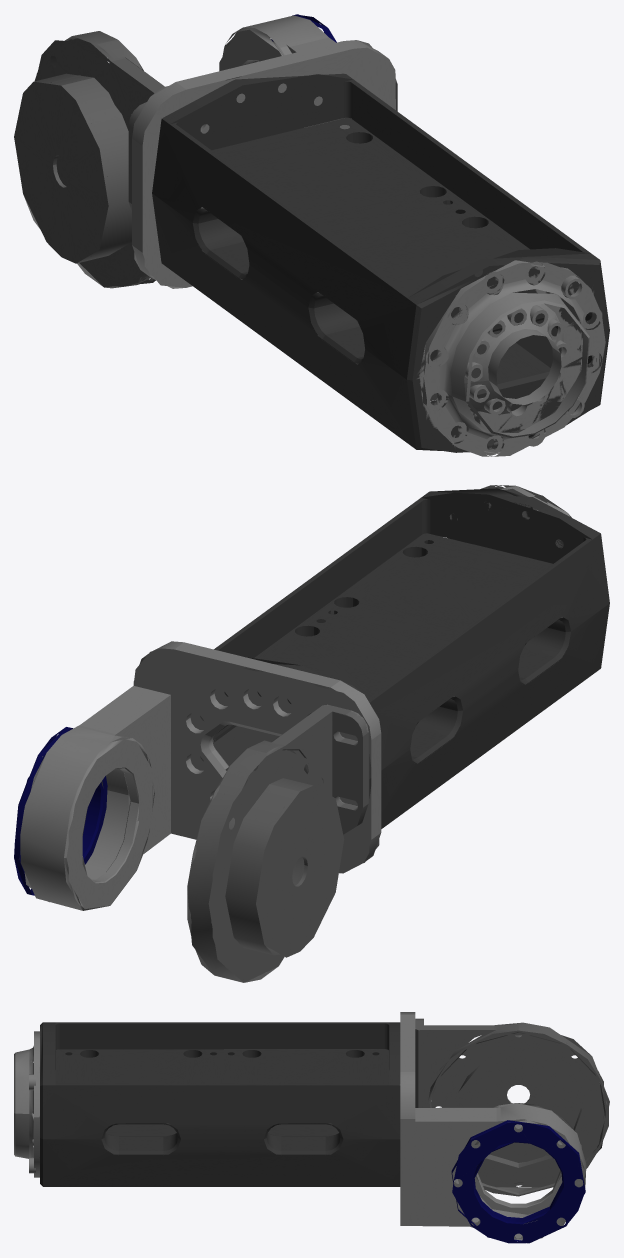
The model's file is arml_sho4_joint.obj.
3 views of the same model, one above another, from view 1: azimuth 30°, elevation 25°; view 2: azimuth 150°, elevation 25°; view 3: azimuth 270°, elevation 25° (orthographic). The views are drawn at different scales.
Size of the model in its own units: 0.072 by 0.066 by 0.2019.
1 material, 1 textured.
